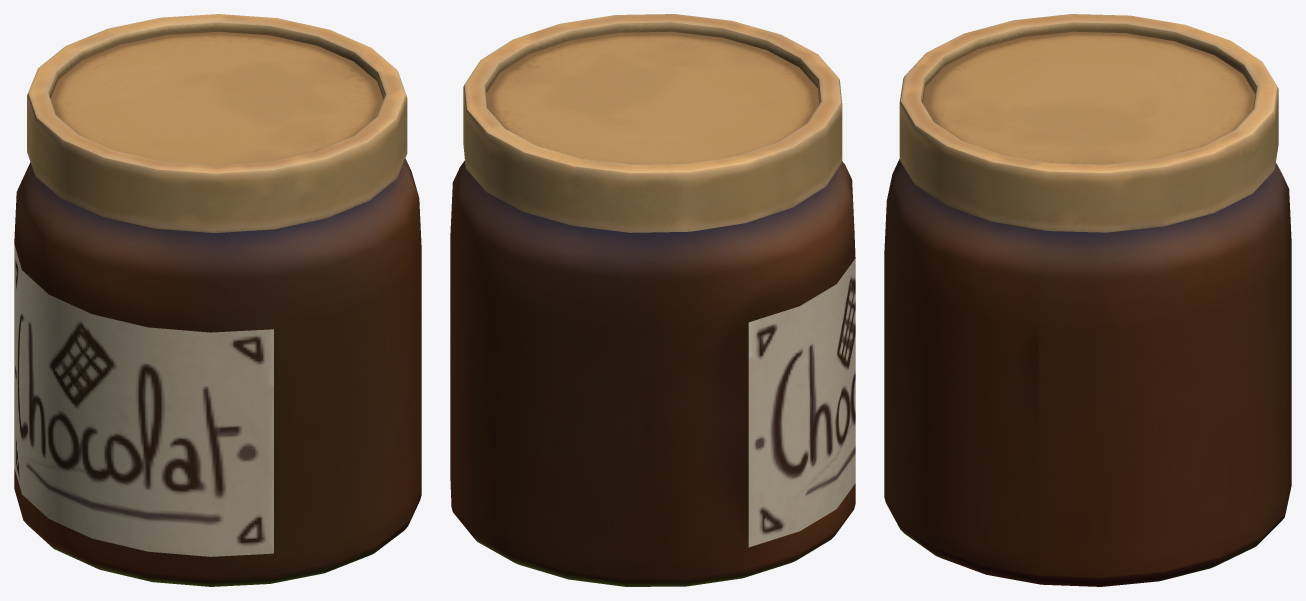
The model's file is SM_FoodPot_12.fbx.
3 views of the same model, side by side, from view 1: azimuth 30°, elevation 25°; view 2: azimuth 150°, elevation 25°; view 3: azimuth 270°, elevation 25° (orthographic).
Visible parts, largest first — view 1: SM_FoodPot_12_LOD0; view 2: SM_FoodPot_12_LOD0; view 3: SM_FoodPot_12_LOD0.
Boxes of the visible parts, x1,y1,x2,y2 form: SM_FoodPot_12_LOD0: (14, 14, 421, 586); SM_FoodPot_12_LOD0: (450, 14, 855, 586); SM_FoodPot_12_LOD0: (884, 14, 1291, 586).
Size of the model in its own units: 11.96 by 11.96 by 13.53.
2 materials, 2 textured.
